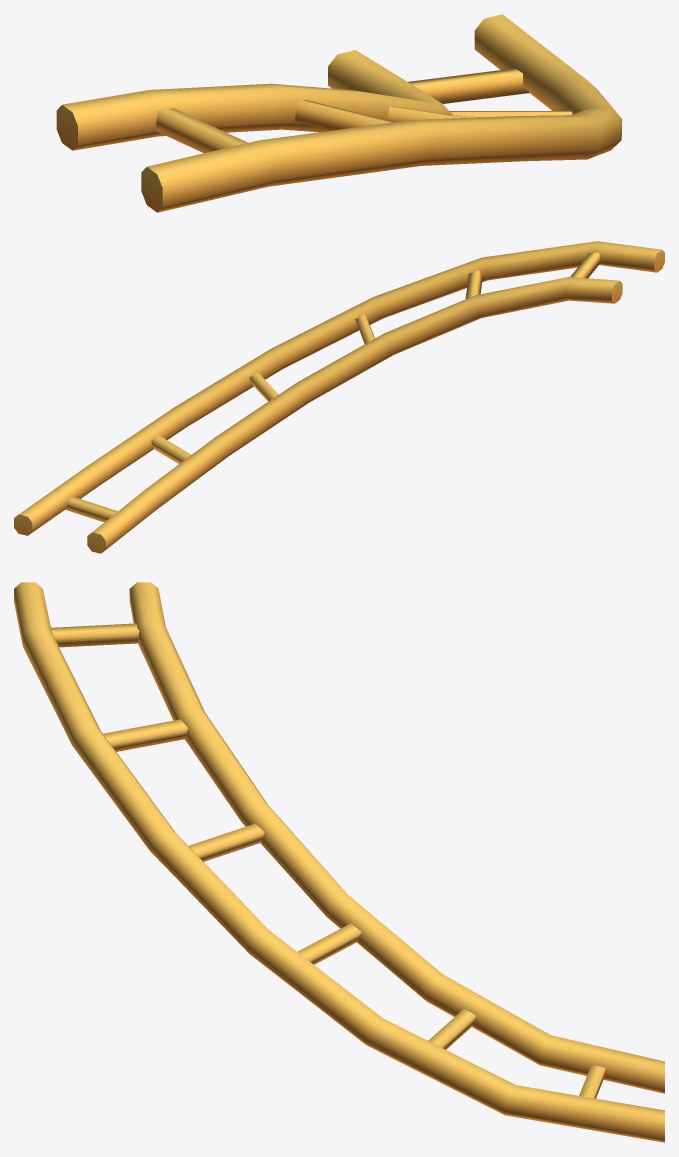
The model's file is coaster-mouse-corner-small-ramp.glb.
The picture shows the model from 3 angles, top to bottom: view 1: azimuth 30°, elevation 25°; view 2: azimuth 150°, elevation 25°; view 3: azimuth 270°, elevation 25°; orthographic projection. The views are drawn at different scales.
Visible parts, largest first — view 1: coaster-mouse-corner-small-ramp; view 2: coaster-mouse-corner-small-ramp; view 3: coaster-mouse-corner-small-ramp.
Part boxes in pixels (bbox=[...]): coaster-mouse-corner-small-ramp: bbox=[56, 14, 622, 212]; coaster-mouse-corner-small-ramp: bbox=[14, 241, 664, 553]; coaster-mouse-corner-small-ramp: bbox=[14, 582, 664, 1142].
Size of the model in its own units: 2.25 by 1.1 by 2.25.
1 material, 1 textured.
